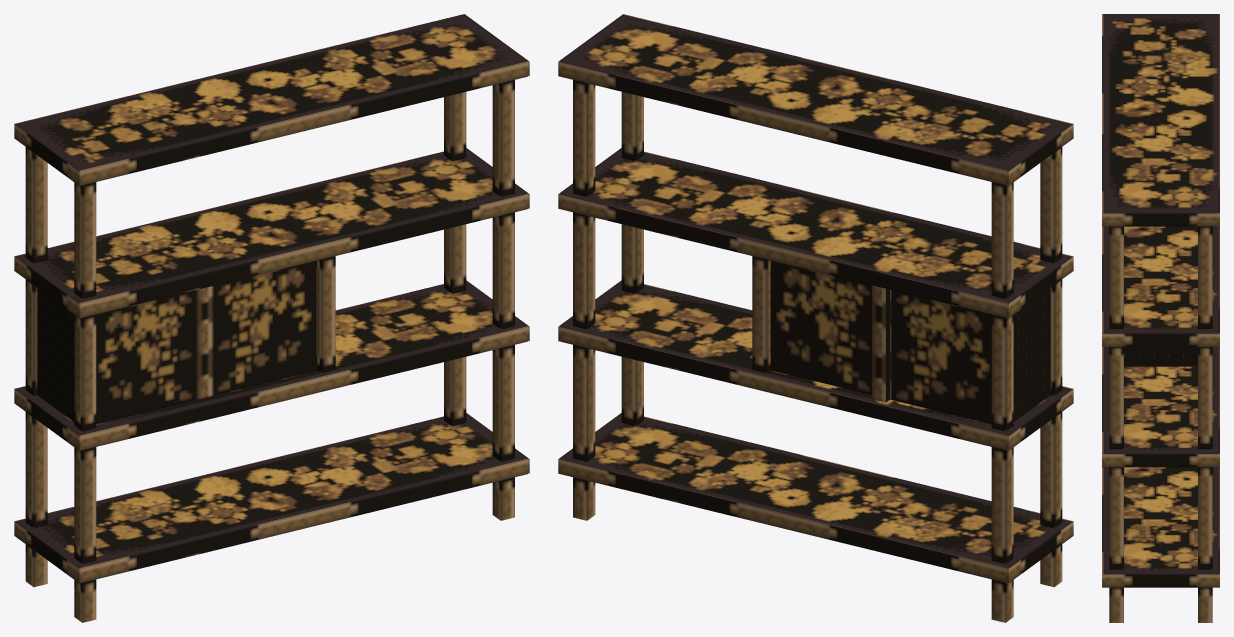
The model's file is short_shelves.obj.
The picture shows the model from 3 angles, left to right: view 1: azimuth 30°, elevation 25°; view 2: azimuth 150°, elevation 25°; view 3: azimuth 270°, elevation 25°; orthographic projection. The views are drawn at different scales.
Visible parts, largest first — view 1: Default; view 2: Default; view 3: Default.
Part boxes in pixels (x1,y1,x2,y2): Default: (14, 14, 529, 622); Default: (558, 14, 1073, 622); Default: (1102, 14, 1219, 622).
Bounding box in the file's own units: 1.28 × 1.24 × 0.32.
Materials: 1 (1 with a texture image).
